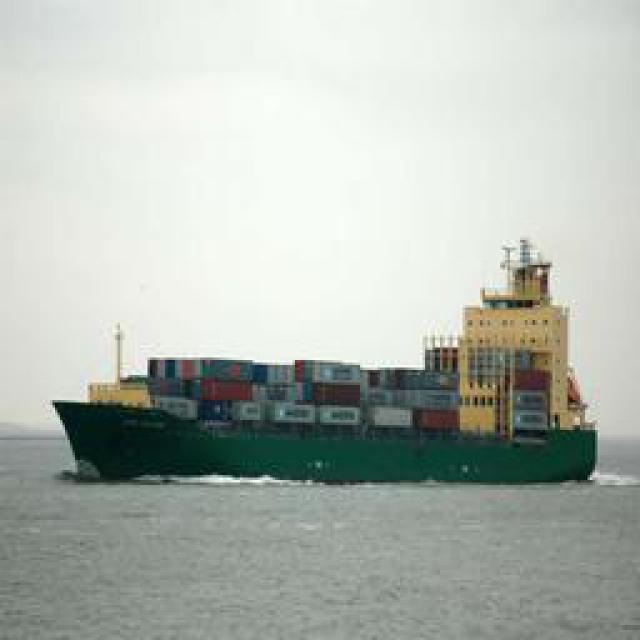Ship: (47, 358, 600, 483)
